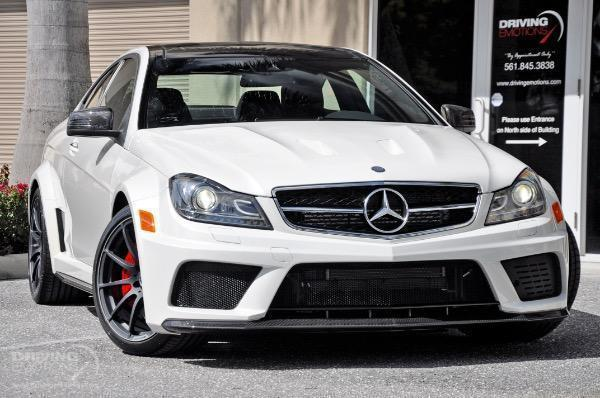C63AMG: (22, 31, 586, 361)
